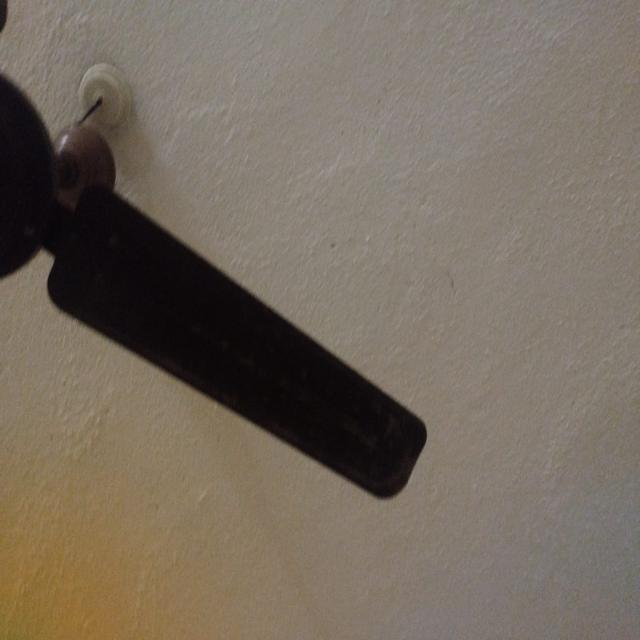fan_off: (0, 1, 432, 504)
